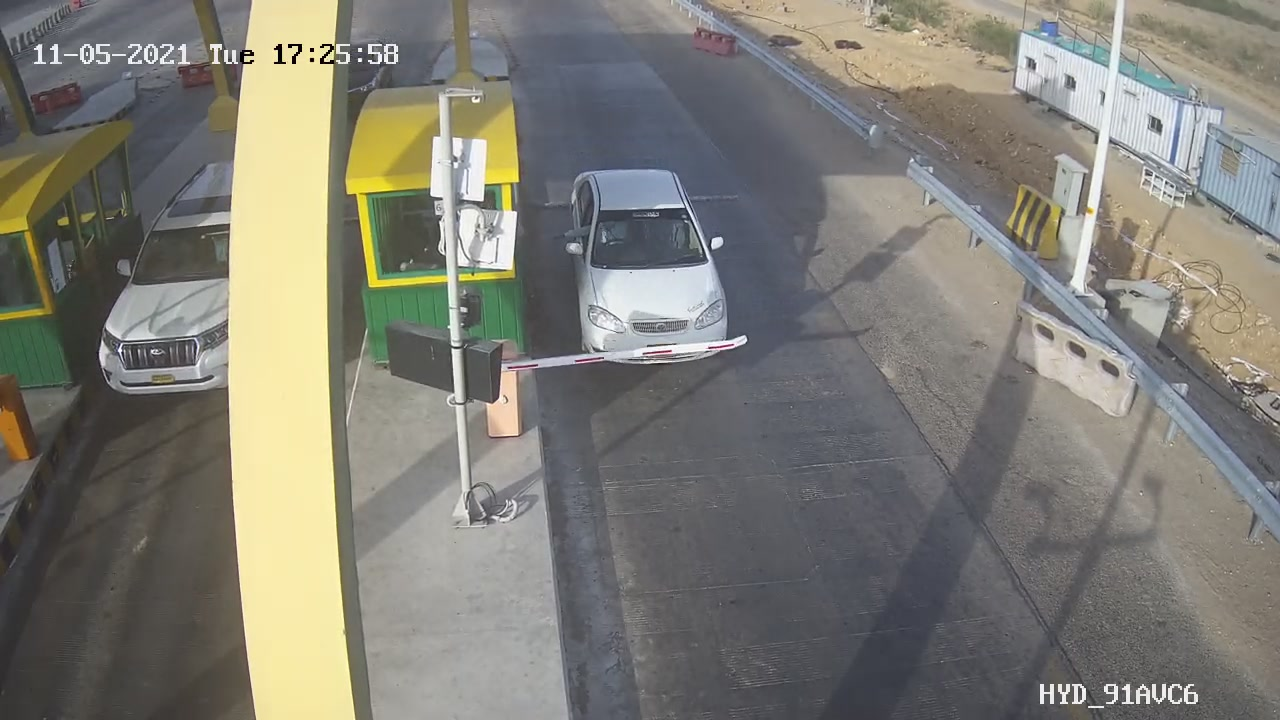F1: (546, 149, 748, 394)
